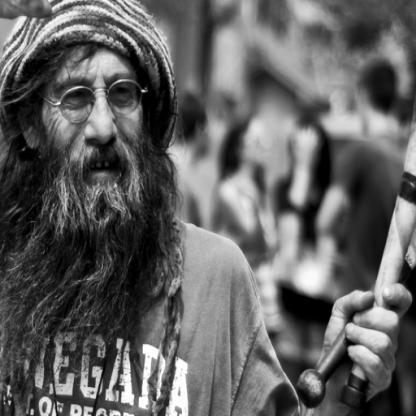knife: (300, 62, 415, 408)
